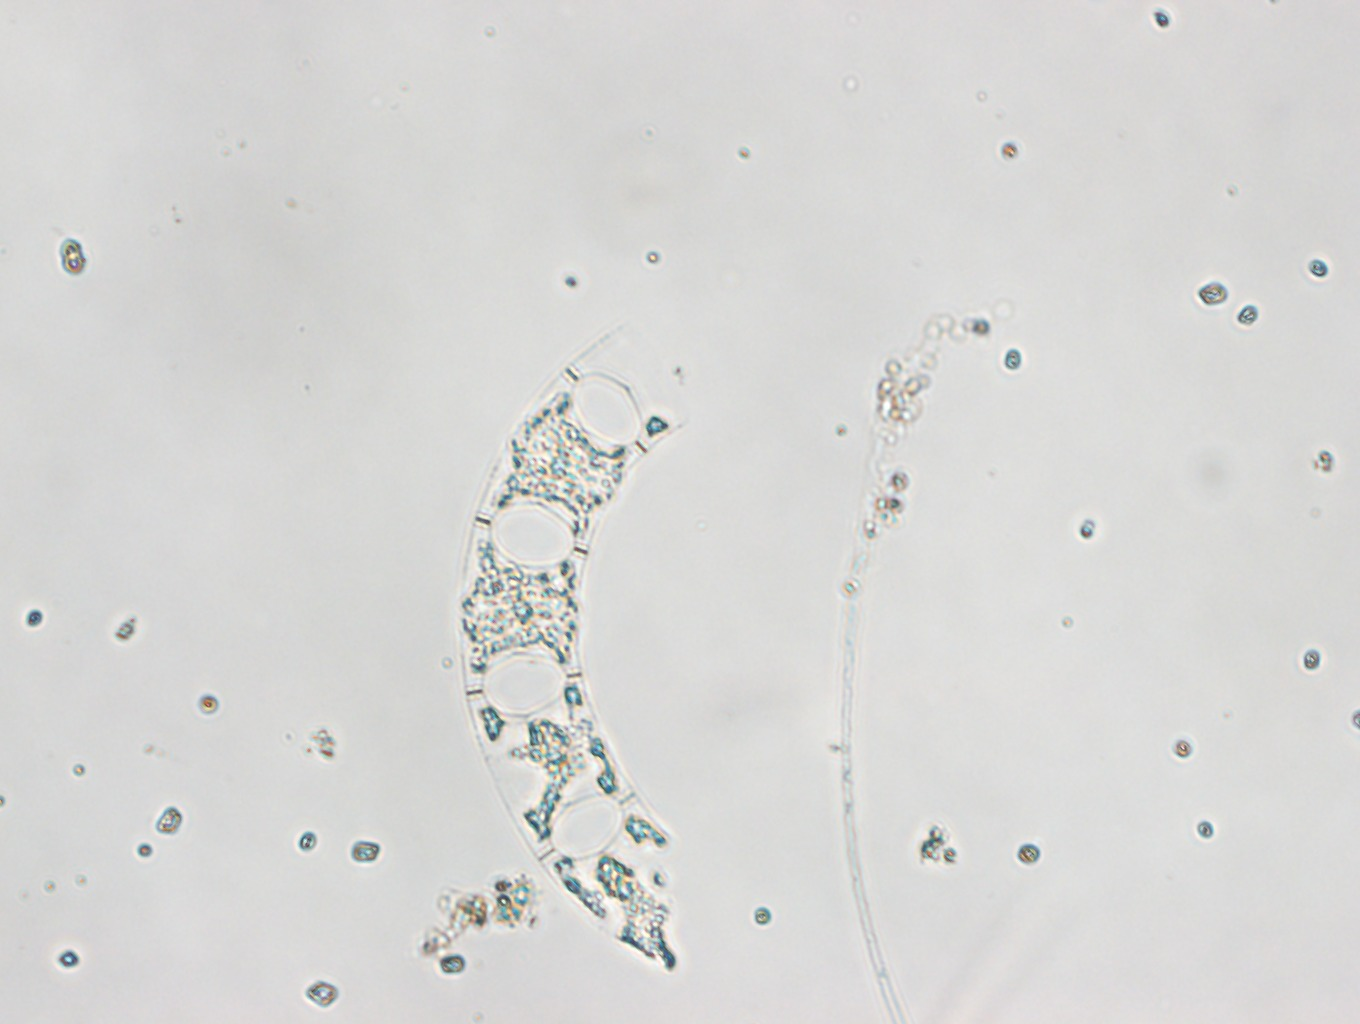eucampia: (457, 310, 691, 959)
